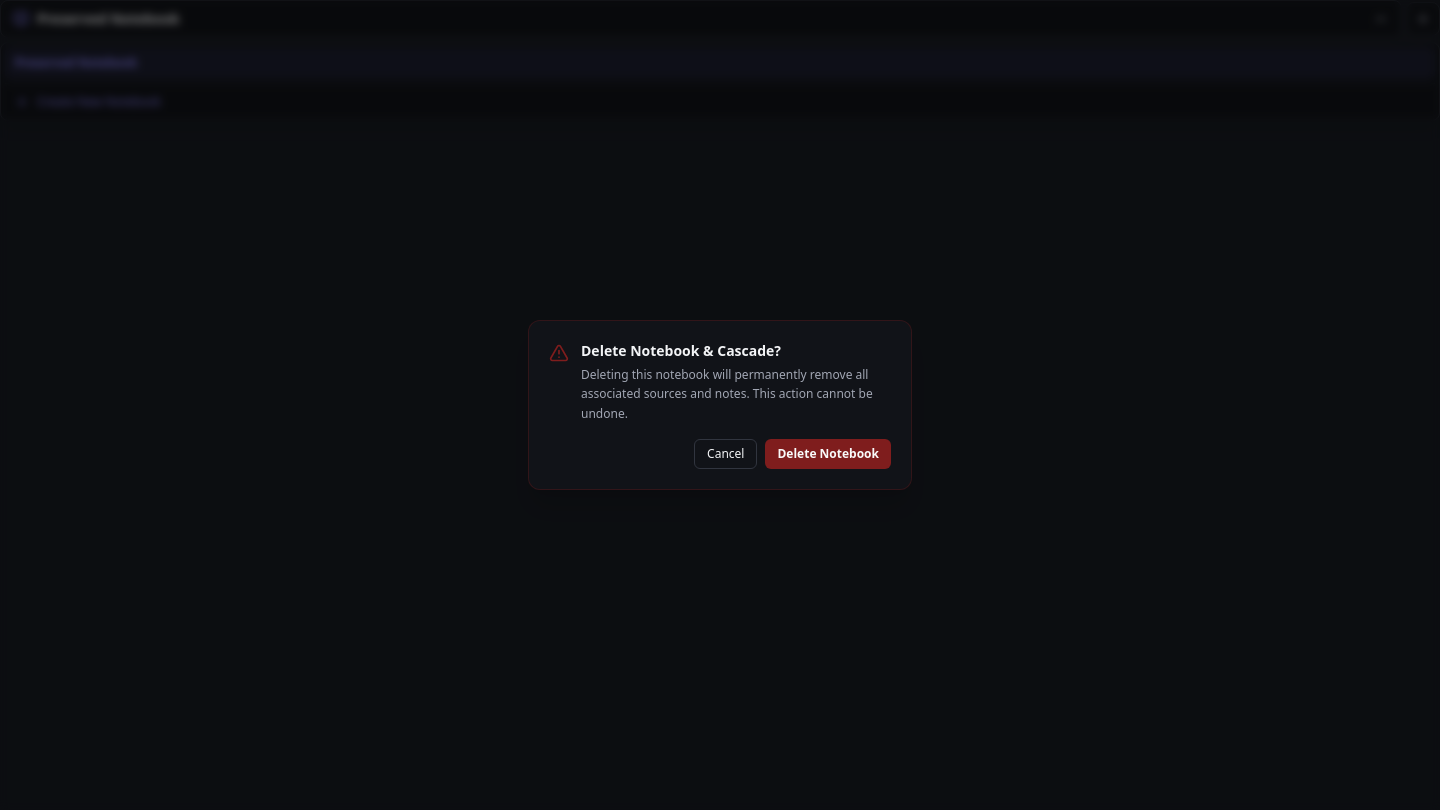
Test case: Adversarial Challenge: Source Lifecycle State Machine & Cascading Deletion › Dimension 2: Cascading Deletion Dialog & Verbatim Warning Verification › 2.2 cancelling deletion dialog dismisses modal and prevents API call
Earlier steps of the test are not shown.
Click the button with test id "cancel-delete-nb-btn": (726, 454) [694,439,758,469]
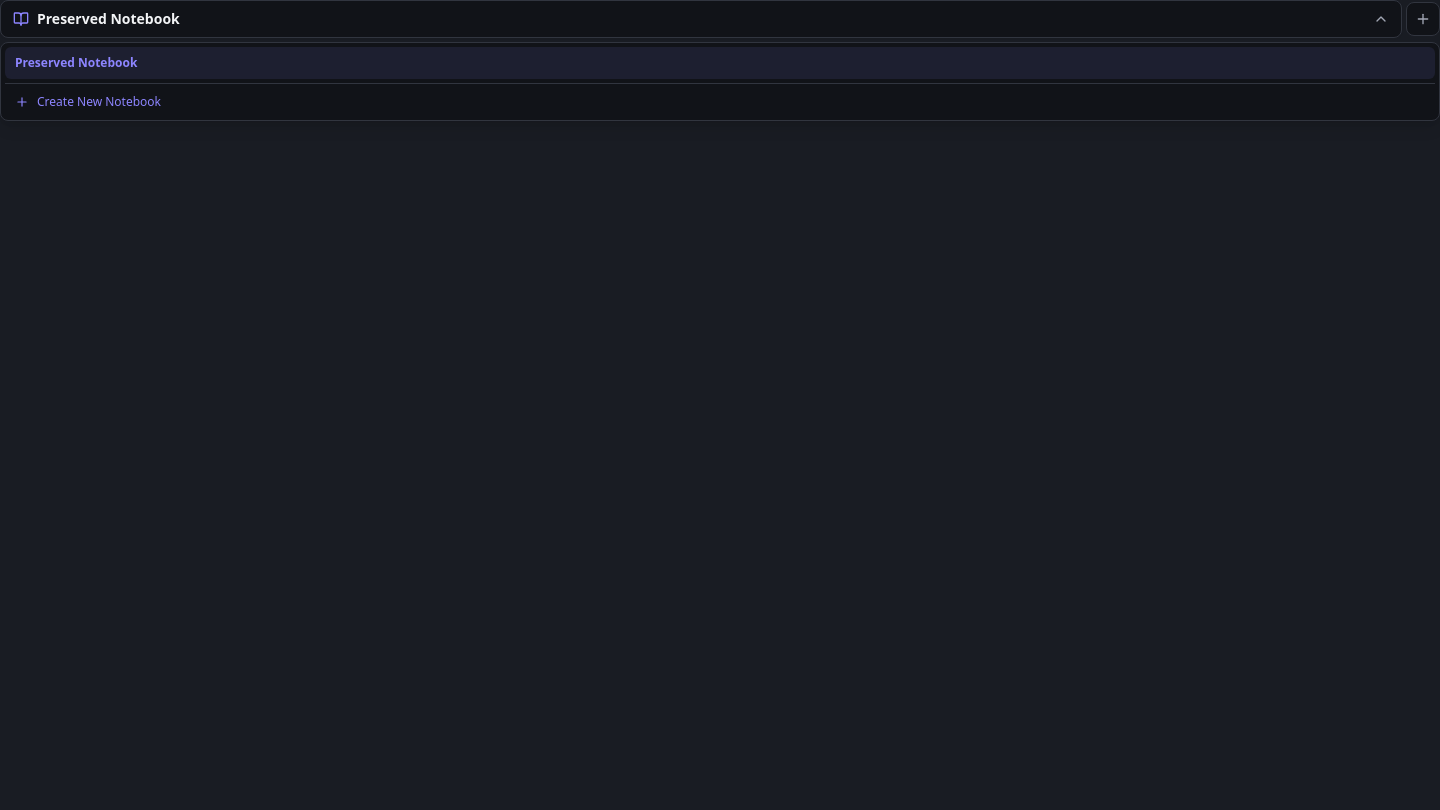
Check: the dialog with test id "notebook-delete-confirm-modal" is gone
